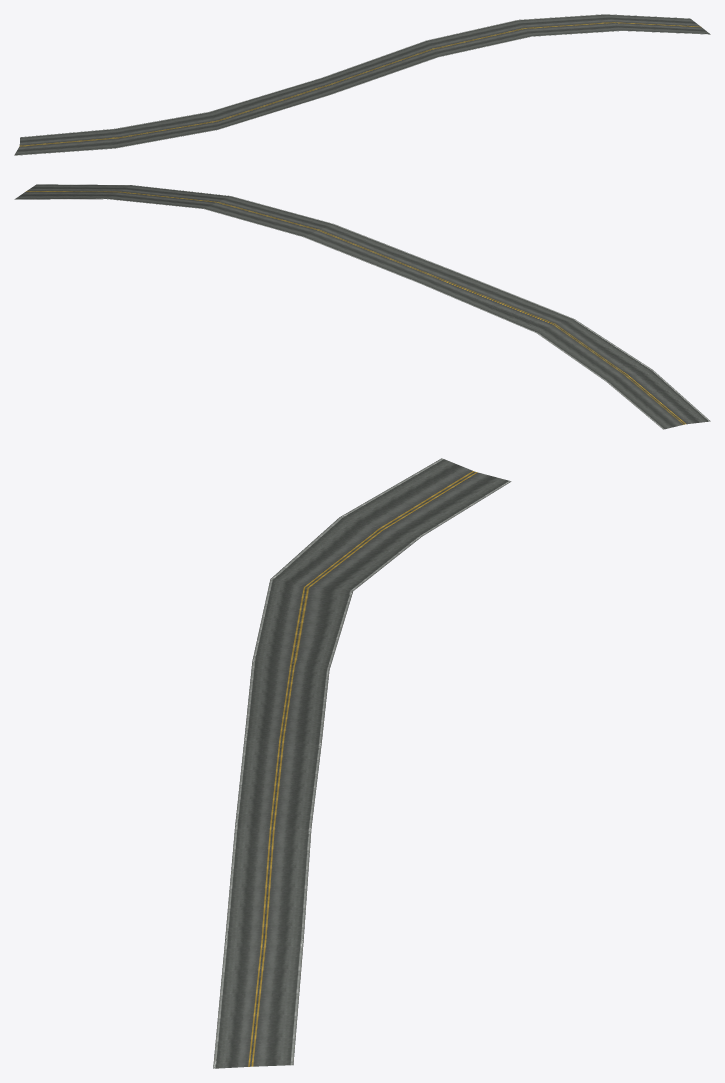
Rendered from cuntwroad32.obj.
3 views of the same model, one above another, from view 1: azimuth 30°, elevation 25°; view 2: azimuth 150°, elevation 25°; view 3: azimuth 270°, elevation 25° (orthographic). The views are drawn at different scales.
Parts seen in each view (by area): view 1: cuntwroad32; view 2: cuntwroad32; view 3: cuntwroad32.
Part boxes in pixels (box(x1,y1,x2,y2)): cuntwroad32: box(14, 14, 710, 155); cuntwroad32: box(14, 184, 710, 429); cuntwroad32: box(213, 458, 511, 1068).
Bounding box in the file's own units: 218 × 14.56 × 43.99.
1 material, 1 textured.
